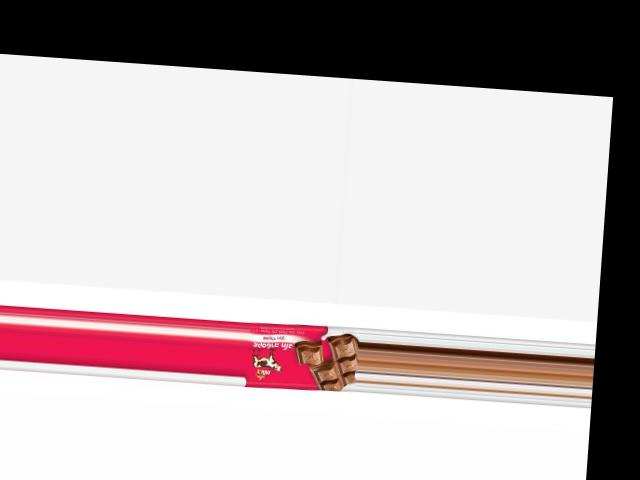chocolate: (243, 319, 359, 392)
